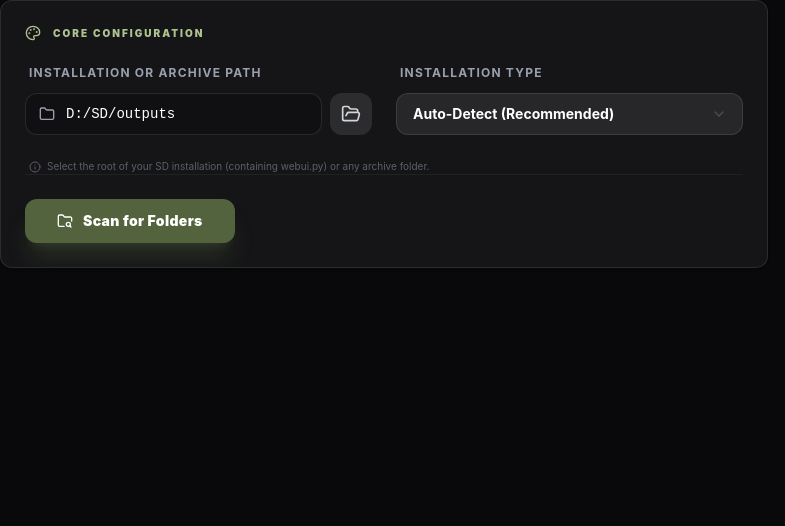
A1111Tab discovery warnings › renders a disabled link action when discovery selects no candidates
Click the button "Scan for Folders" at (130, 221), box [25,199,235,243]
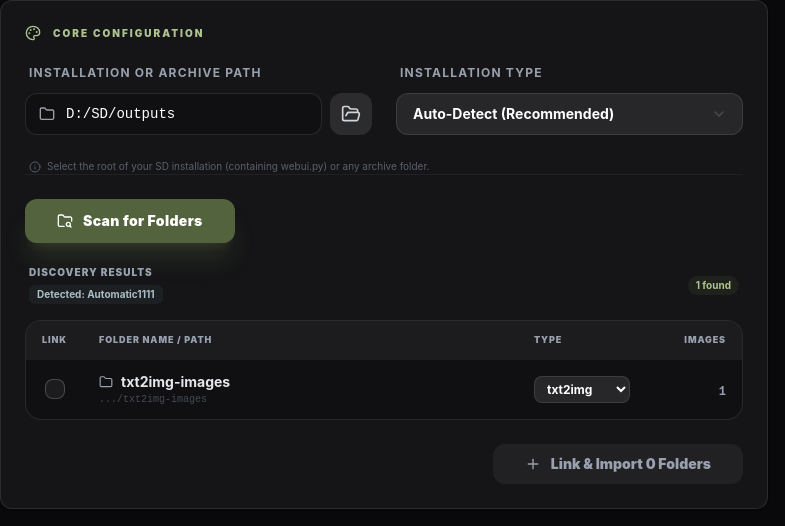
Expected: the button "Link & Import 0 Folders" is disabled, [493,444,743,484]
